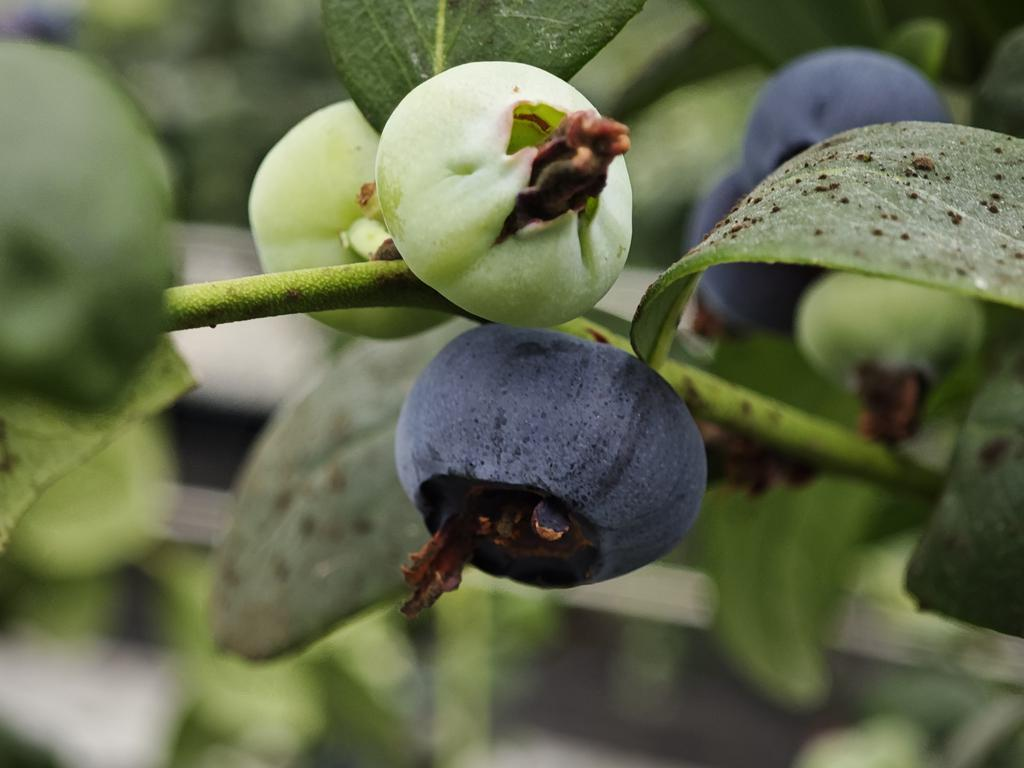RipeBlueBerry: (392, 320, 711, 612)
UnripeBlueBerry: (372, 53, 641, 332)
